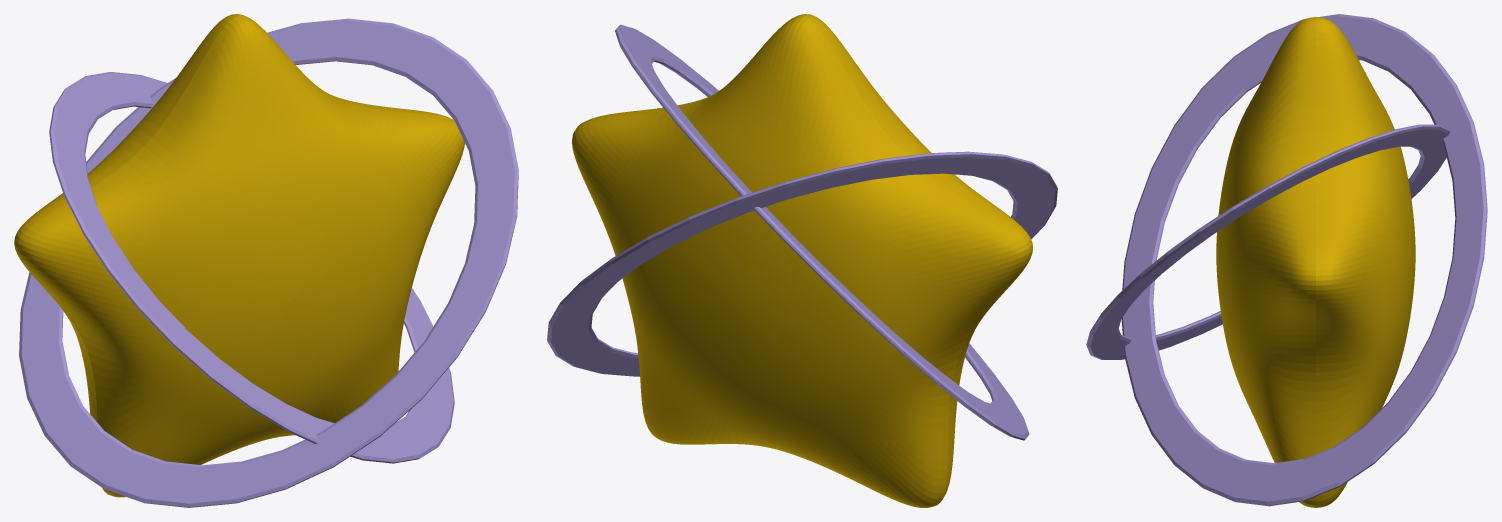
The model's file is PopStar.obj.
3 views of the same model, side by side, from view 1: azimuth 30°, elevation 25°; view 2: azimuth 150°, elevation 25°; view 3: azimuth 270°, elevation 25° (orthographic). The views are drawn at different scales.
Visible parts, largest first — view 1: Circle, Circle.002, Circle.001; view 2: Circle, Circle.001, Circle.002; view 3: Circle, Circle.001, Circle.002.
Part boxes in pixels (x1,y1,x2,y2): Circle: (14,14,464,497); Circle.002: (19,18,518,507); Circle.001: (49,72,454,463); Circle: (572,14,1032,507); Circle.001: (547,151,1057,376); Circle.002: (615,24,1029,440); Circle: (1216,17,1415,507); Circle.001: (1121,14,1487,506); Circle.002: (1086,124,1449,359).
Size of the model in its own units: 2.75 by 2.66 by 2.24.
